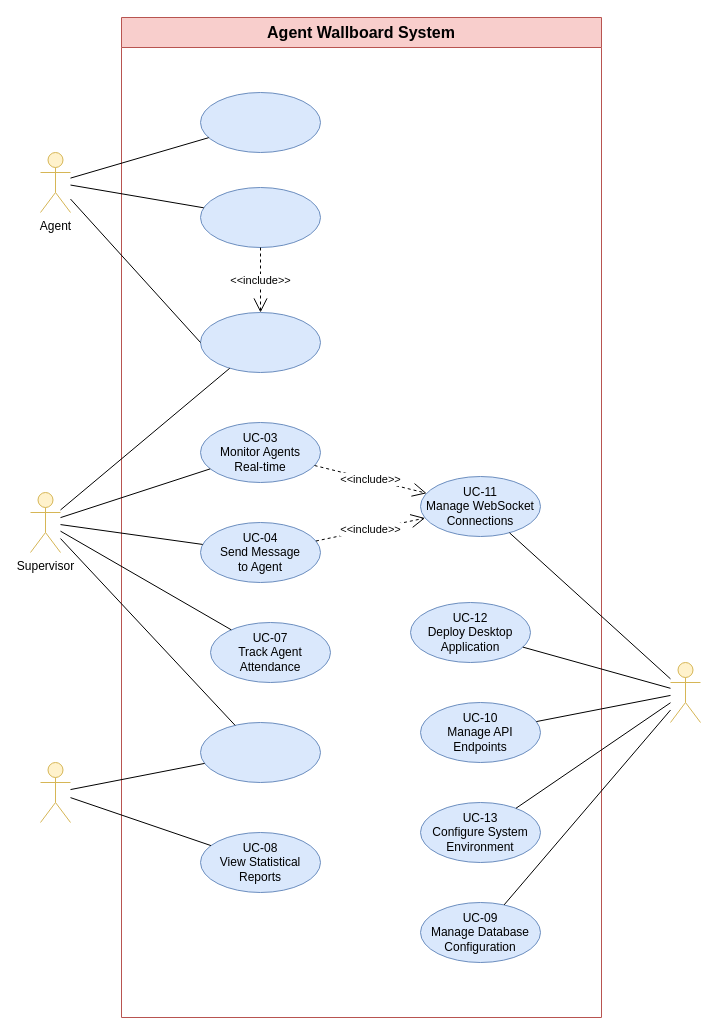
Image size: 723x1035. Some labels were removed from this diagram. The centre of each missing label's shape, as x and y in pixels:
Operations Manager: pixel 55 792
System Admin: pixel 685 692
UC-01 Login to System: pixel 260 342
UC-02 Manage Agent Status: pixel 260 217
UC-05 Receive Notification: pixel 260 122
UC-06 View Team Dashboard: pixel 260 752
